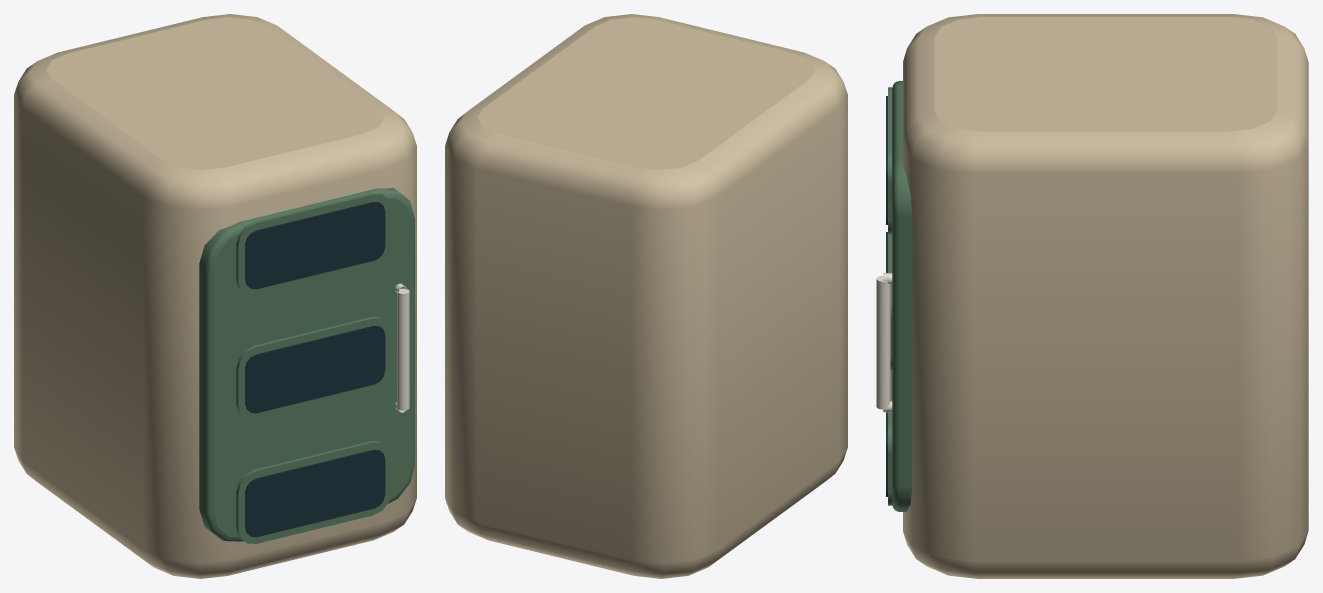
3 views of the same model, side by side, from view 1: azimuth 30°, elevation 25°; view 2: azimuth 150°, elevation 25°; view 3: azimuth 270°, elevation 25° (orthographic). The views are drawn at different scales.
Parts seen in each view (by area): view 1: t200_o2; view 2: t200_o2; view 3: t200_o2.
Part boxes in pixels (left/top/right/bottom): t200_o2: left=14, top=14, right=416, bottom=578; t200_o2: left=445, top=14, right=847, bottom=578; t200_o2: left=876, top=14, right=1308, bottom=578.
Size of the model in its own units: 1.9 by 2.78 by 2.45.
